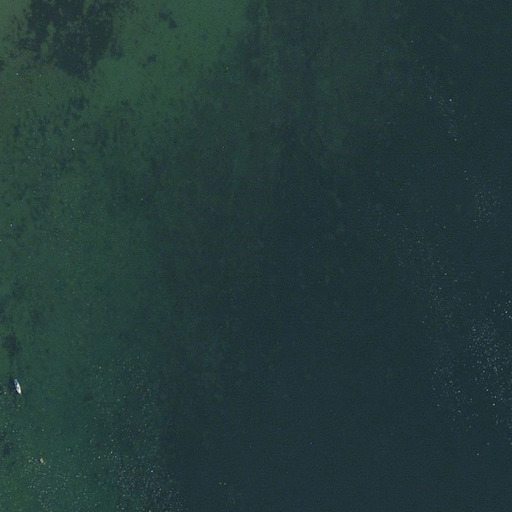ship: (12, 379, 23, 394)
